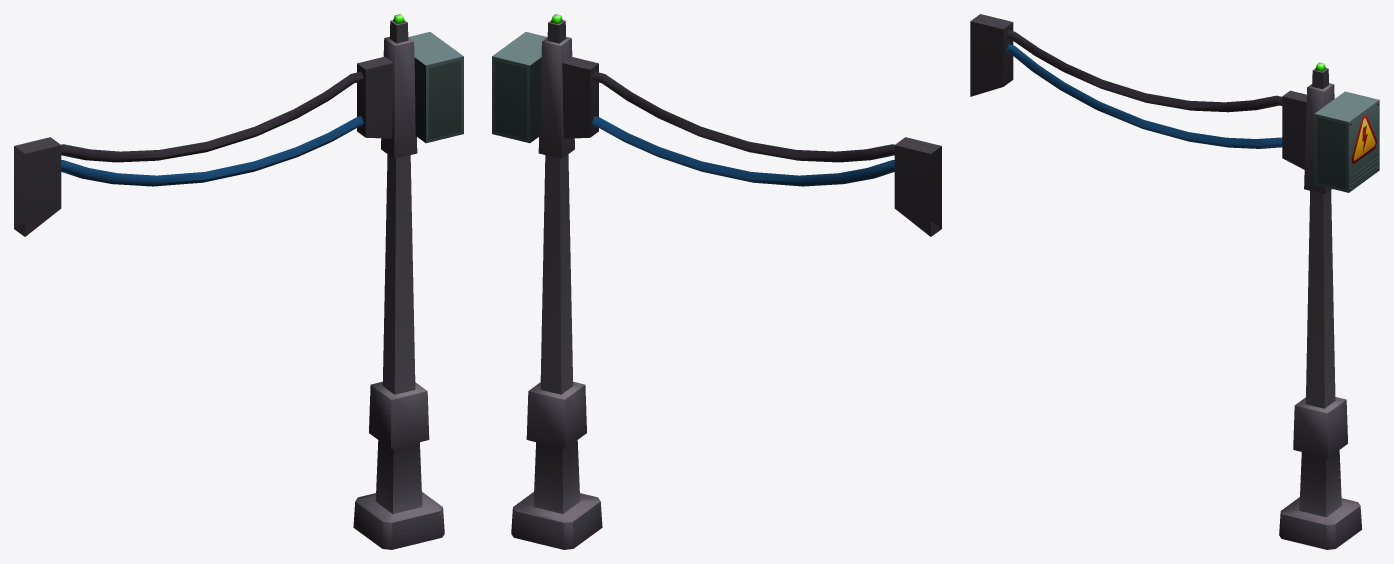
File: Cable_Pole_1B.fbx
The picture shows the model from 3 angles, left to right: view 1: azimuth 30°, elevation 25°; view 2: azimuth 150°, elevation 25°; view 3: azimuth 330°, elevation 25°; orthographic projection. The views are drawn at different scales.
Visible parts, largest first — view 1: Cable_Pole_1B; view 2: Cable_Pole_1B; view 3: Cable_Pole_1B.
Part boxes in pixels (x1=…): Cable_Pole_1B: x1=14, y1=14, x2=463, y2=549; Cable_Pole_1B: x1=492, y1=14, x2=941, y2=549; Cable_Pole_1B: x1=970, y1=14, x2=1379, y2=549.
Bounding box in the file's own units: 6.78 × 7.78 × 0.9852.
